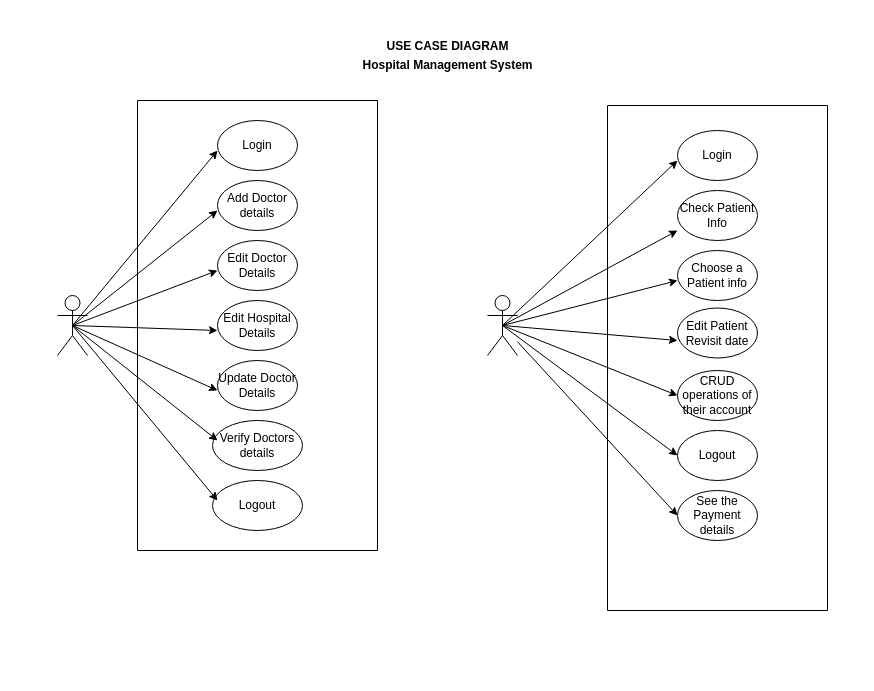
The diagram is 874 pixels wide and 691 high, and some of its shapes have lost their labels. The box of each missing label's shape, as (x1, y1, x2, y2) in pixels:
Admin: (56, 294, 88, 356)
Doctor: (486, 294, 518, 356)
